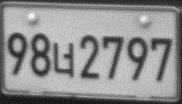2: (79, 35, 100, 79)
7: (150, 37, 173, 81), (102, 35, 124, 78)
8: (30, 32, 50, 76)
9: (126, 36, 148, 80), (7, 32, 27, 75)
너: (51, 41, 75, 77)
